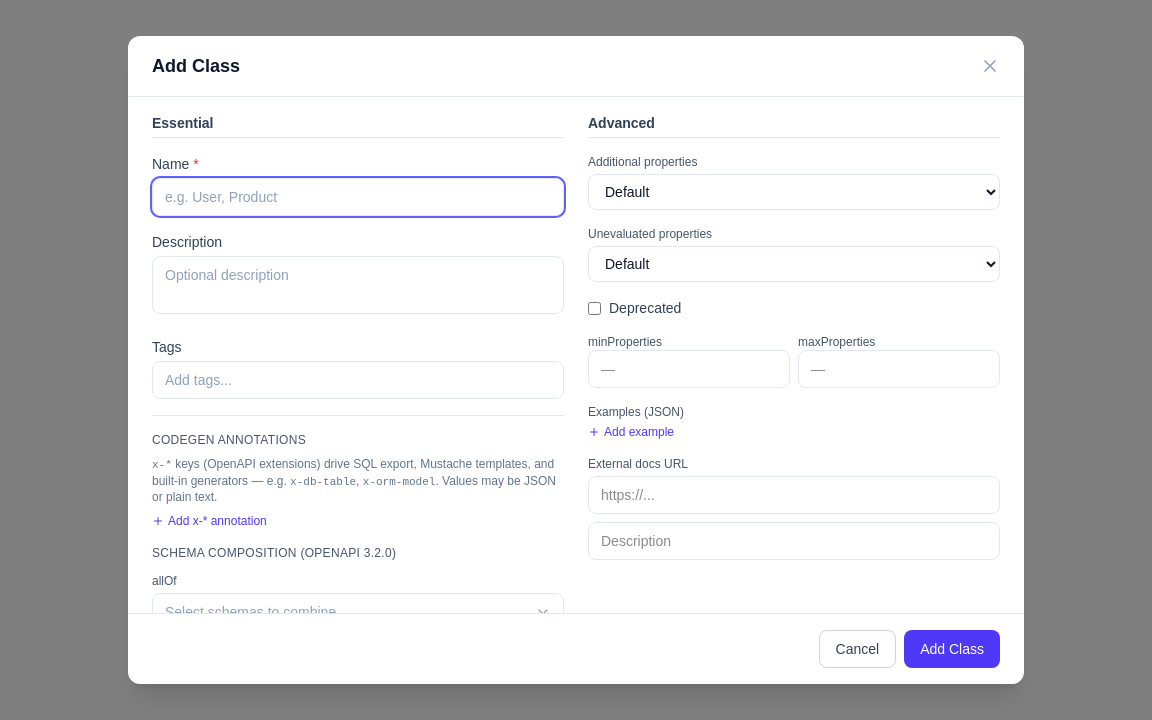
Test: ClassDialog › shows validation error when saving with empty name
This screenshot has width=1152, height=720.
Step 1. Click the button "Add Class" → (952, 649), box [904,630,1000,668]
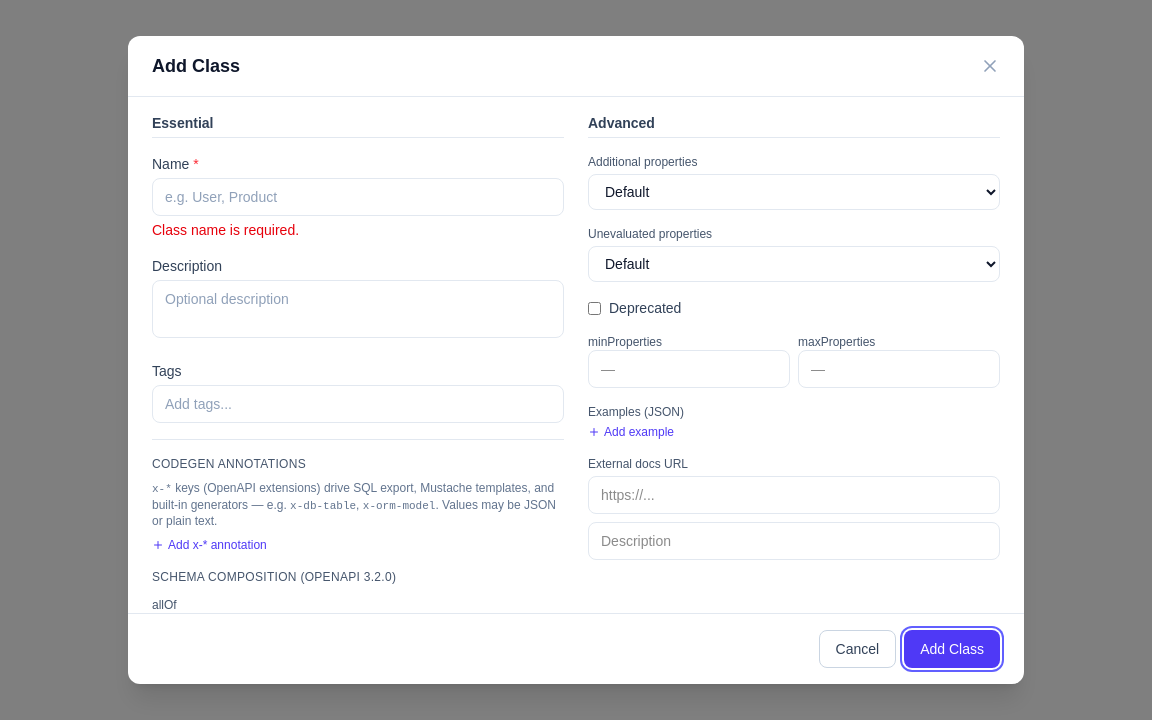
Expected: the text "Class name is required." is shown, [152,222,299,238]
